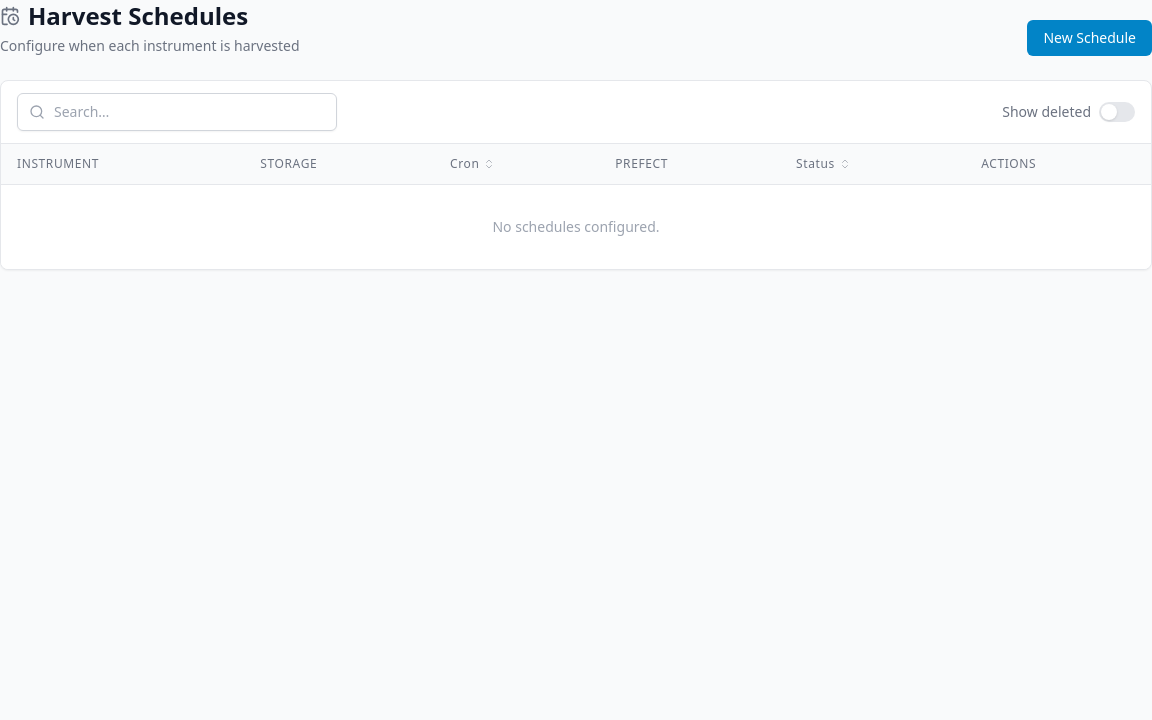
Scenario: Schedules admin page › modal closes on Escape key
The image size is (1152, 720).
Click the button "New Schedule" at [1090, 38], box [1027, 20, 1151, 56]
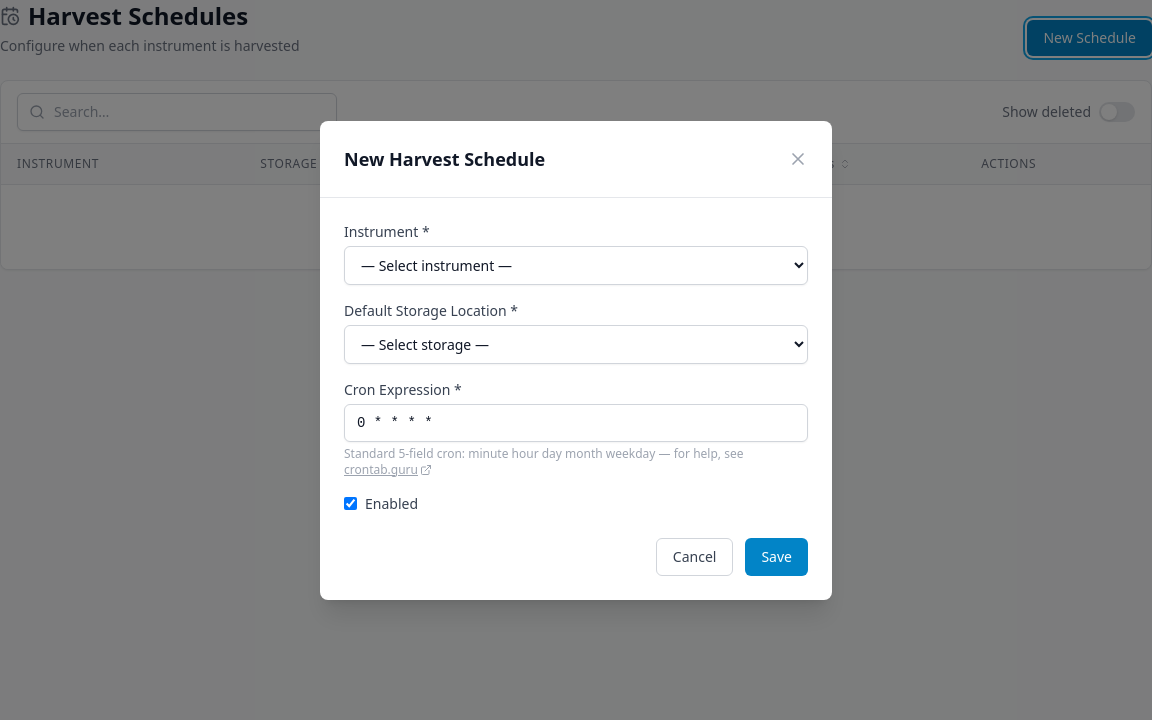
Expected: the heading "New Harvest Schedule" is shown, [344, 144, 545, 172]
Press Escape
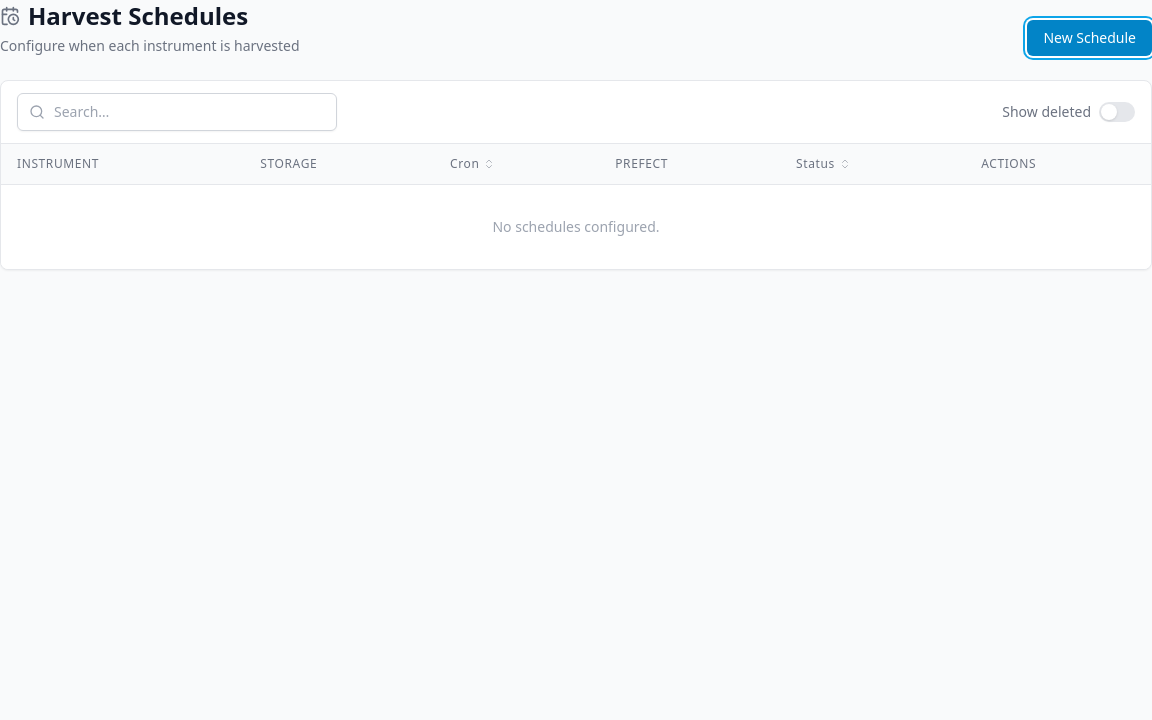
Expected: the heading "New Harvest Schedule" is gone
